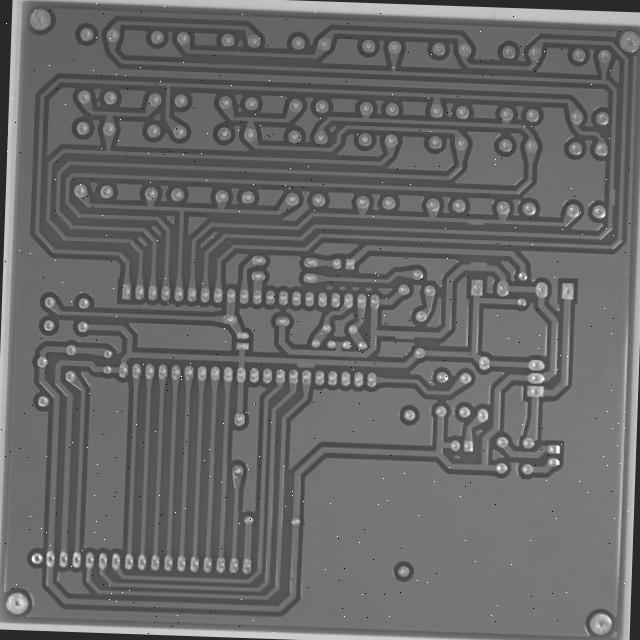spur: (604, 175, 620, 201), (386, 323, 413, 338), (286, 353, 312, 367), (463, 250, 489, 264), (460, 208, 485, 221)
